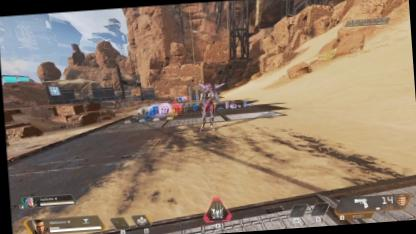Target: (196, 81, 219, 133)
